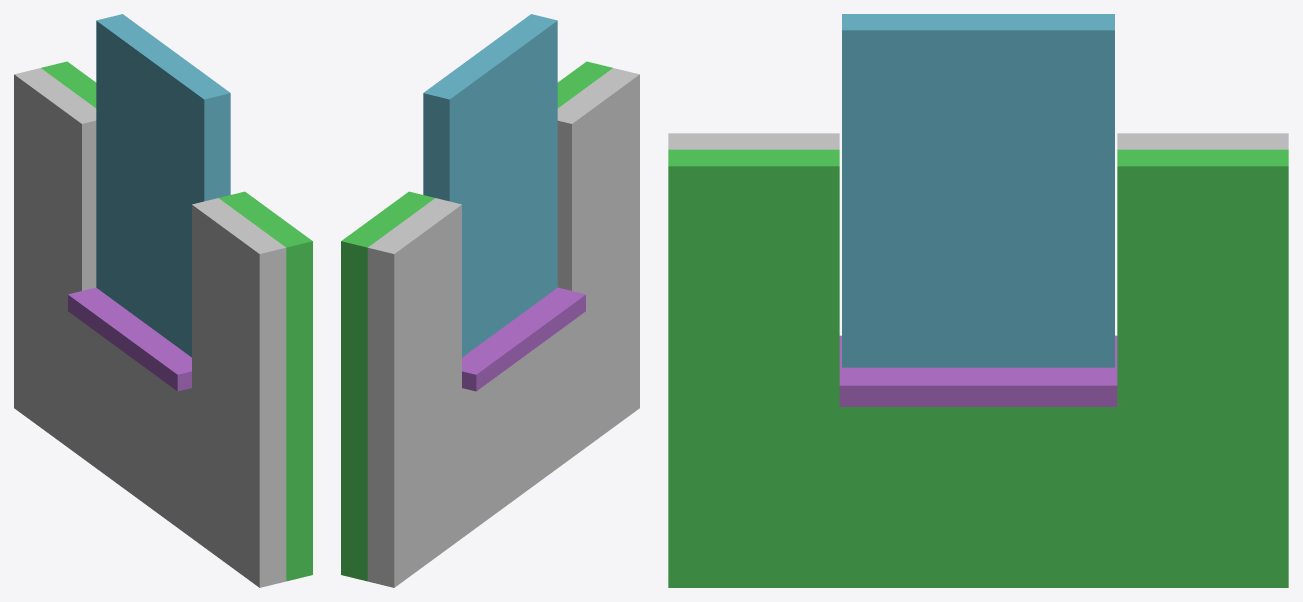
Rendered from wall_window.fbx.
3 views of the same model, side by side, from view 1: azimuth 30°, elevation 25°; view 2: azimuth 150°, elevation 25°; view 3: azimuth 270°, elevation 25° (orthographic). The views are drawn at different scales.
Parts seen in each view (by area): view 1: Cube; view 2: Cube; view 3: Cube.
Part boxes in pixels (<box>): Cube: <box>14,14,312,587</box>; Cube: <box>341,14,639,587</box>; Cube: <box>668,14,1288,587</box>.
Size of the model in its own units: 76.6 by 391 by 400.
